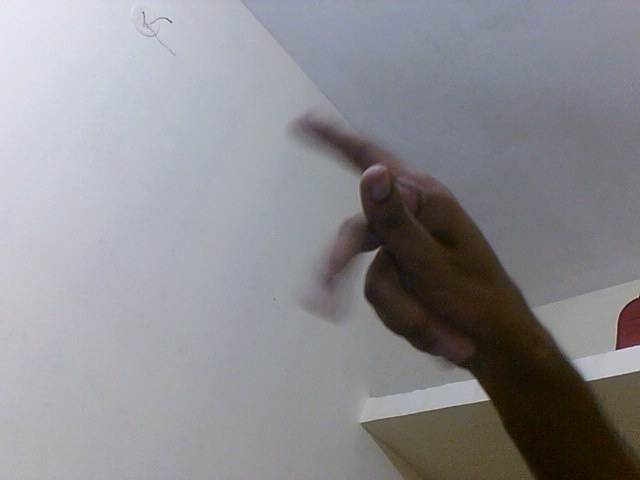hand: (289, 106, 532, 377)
